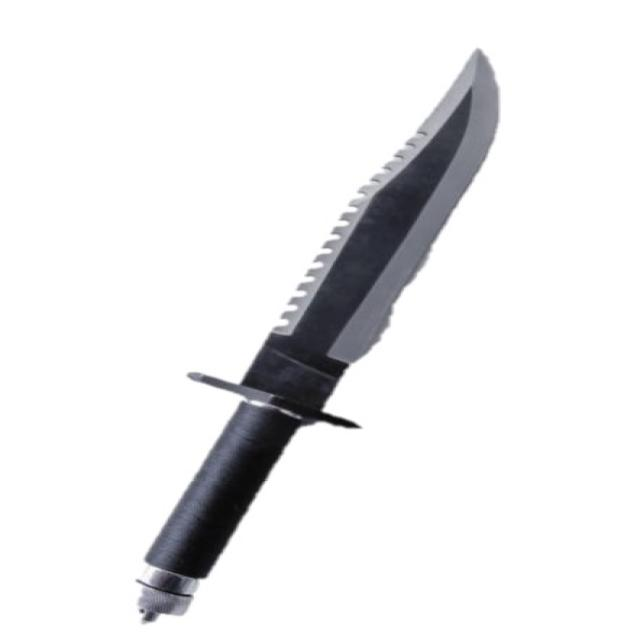knife: (132, 45, 523, 627)
